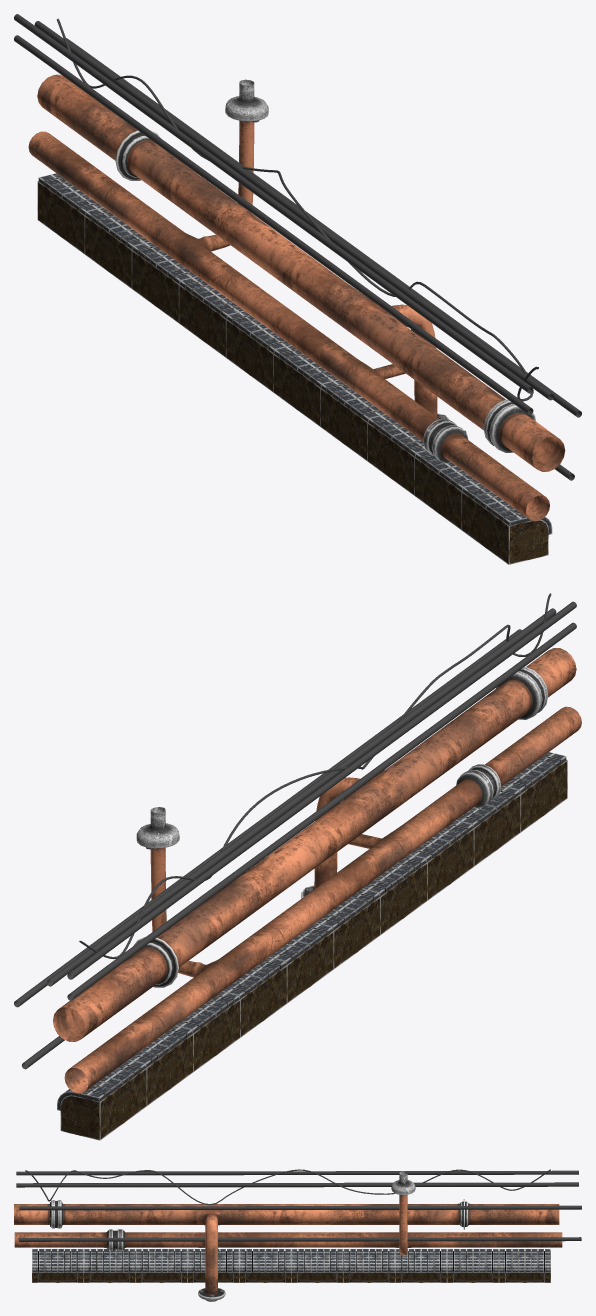
The model's file is copper_pipe.glb.
3 renders of one model, top to bottom at view 1: azimuth 30°, elevation 25°; view 2: azimuth 150°, elevation 25°; view 3: azimuth 270°, elevation 25°, orthographic. The views are drawn at different scales.
Visible parts, largest first — view 1: tubos_canos_6, MAQUINA1_5, BezierCurve.001_1, BezierCurve.002_2, BezierCurve.004_4, BezierCurve.003_3, BezierCurve_0; view 2: tubos_canos_6, MAQUINA1_5, BezierCurve.001_1, BezierCurve.002_2, BezierCurve.004_4, BezierCurve.003_3, BezierCurve_0; view 3: tubos_canos_6, MAQUINA1_5, BezierCurve.005_8, BezierCurve.004_4, BezierCurve.003_3, BezierCurve.001_1, BezierCurve_0, BezierCurve.002_2.
Boxes of the visible parts, x1,y1,x2,y2 form: tubos_canos_6: (28, 74, 565, 521); MAQUINA1_5: (37, 173, 552, 564); BezierCurve.001_1: (14, 14, 533, 393); BezierCurve.002_2: (14, 35, 533, 414); BezierCurve.004_4: (34, 21, 553, 400); BezierCurve.003_3: (66, 38, 581, 417); BezierCurve_0: (57, 18, 538, 401); tubos_canos_6: (53, 648, 581, 1093); MAQUINA1_5: (57, 752, 567, 1140); BezierCurve.001_1: (67, 601, 576, 979); BezierCurve.002_2: (67, 622, 576, 1000); BezierCurve.004_4: (47, 608, 556, 986); BezierCurve.003_3: (14, 629, 521, 1007); BezierCurve_0: (79, 593, 551, 959); tubos_canos_6: (14, 1171, 562, 1301); MAQUINA1_5: (32, 1249, 550, 1282); BezierCurve.005_8: (18, 1237, 581, 1241); BezierCurve.004_4: (16, 1182, 578, 1187); BezierCurve.003_3: (19, 1205, 581, 1210); BezierCurve.001_1: (16, 1170, 578, 1175); BezierCurve_0: (25, 1169, 550, 1205); BezierCurve.002_2: (16, 1182, 578, 1183).
Size of the model in its own units: 5.79 by 11.92 by 48.79.
Materials: 4 (3 with a texture image).
